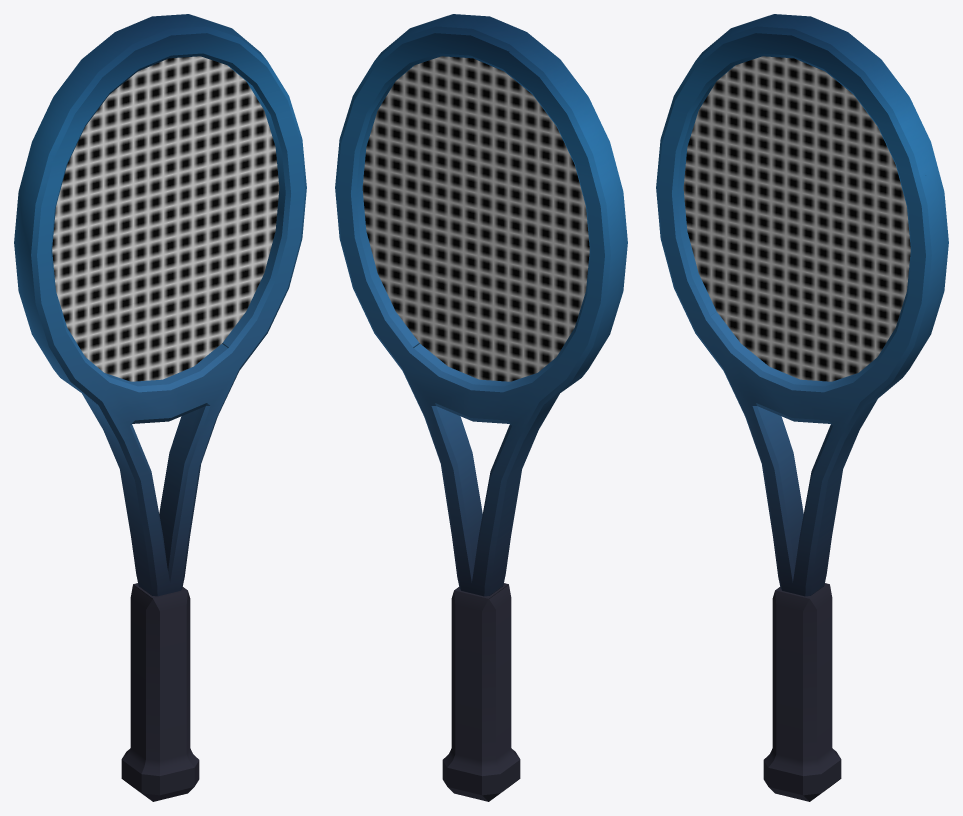
The model's file is racket.glb.
The picture shows the model from 3 angles, left to right: view 1: azimuth 30°, elevation 25°; view 2: azimuth 150°, elevation 25°; view 3: azimuth 330°, elevation 25°; orthographic projection.
Parts seen in each view (by area): view 1: TennisRacketV1; view 2: TennisRacketV1; view 3: TennisRacketV1.
Part boxes in pixels (x1,y1,x2,y2): TennisRacketV1: (14, 14, 306, 801); TennisRacketV1: (335, 14, 627, 801); TennisRacketV1: (656, 14, 948, 801).
Bounding box in the file's own units: 2.07 × 5.43 × 0.4268.
1 material, 1 textured.
